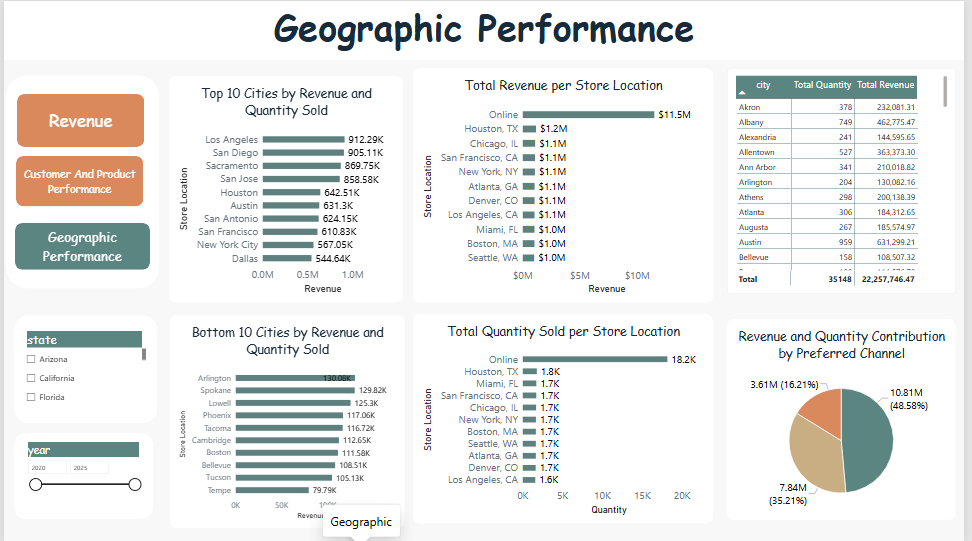

The page's visual inventory and layout, read from the dashboard file:
{"tool":"powerbi","page":{"name":"Geographic","canvas":[1920,1080],"ordinal":2},"visuals":[{"type":"textbox","box":[0,0,1920,118.4],"z":0},{"type":"shape","box":[4.3,148.8,306.1,427.3],"z":0,"group":"g3"},{"type":"shape","box":[19.1,627.2,287,216.9],"z":0,"group":"g1"},{"type":"shape","box":[19.1,863.1,278.5,172.2],"z":0,"group":"g2"},{"type":"barChart","title":"Total Quantity Sold per Store Location","fields":{"Category":["Cleaned_retail_data.store_location"],"Y":["Sum(Cleaned_retail_data.quantity)"]},"box":[818.5,625,599.5,418.8],"z":1000},{"type":"tableEx","title":"Revenue by Year and Quater ","fields":{"Values":["Cleaned_retail_data.city","Cleaned_retail_data.Total Quantity","Cleaned_retail_data.Total Revenue"]},"box":[1446,134,458,452],"z":2000},{"type":"slicer","title":"Total Revenue","fields":{"Values":["Cleaned_retail_data.state"]},"box":[36.8,659.2,246.3,150.9],"z":2000,"group":"g1"},{"type":"slicer","title":"Total Revenue","fields":{"Values":["Cleaned_retail_data.year"]},"box":[38.2,881,238.1,140.4],"z":2000,"group":"g2"},{"type":"group","id":"g1","title":"Group 3","box":[19.1,627.2,287,216.9],"z":3000},{"type":"group","id":"g2","title":"Group 3","box":[19.1,863.1,278.5,172.2],"z":4000},{"type":"group","id":"g3","title":"Group 3","box":[4.3,148.8,306.1,427.3],"z":4001,"group":"g4"},{"type":"barChart","title":"Total Revenue per Store Location","fields":{"Category":["Cleaned_retail_data.store_location"],"Y":["Sum(Cleaned_retail_data.revenue)"]},"box":[818.5,133.9,599.5,469.8],"z":5000},{"type":"pieChart","title":"Revenue and Quantity Contribution by Preferred Channel","fields":{"Category":["Cleaned_retail_data.preferred_channel"],"Y":["Cleaned_retail_data.Total Revenue"]},"box":[1445.7,635.7,457.1,401.8],"z":6000},{"type":"barChart","title":"Top 10 Cities by Revenue and Quantity Sold","fields":{"Category":["Cleaned_retail_data.city"],"Y":["Cleaned_retail_data.Total Revenue"]},"box":[330,134,470,470],"z":7000},{"type":"barChart","title":"Bottom 10 Cities by Revenue and Quantity Sold","fields":{"Category":["Cleaned_retail_data.city"],"Y":["Cleaned_retail_data.Total Revenue"]},"box":[332.6,627.4,468.7,425.8],"z":8000},{"type":"group","id":"g4","title":"Group 2","box":[4.3,148.8,306.1,427.3],"z":9000},{"type":"actionButton","box":[25.5,185.5,254.5,105.8],"z":10000},{"type":"actionButton","box":[23.4,310.4,254.5,100.8],"z":11000},{"type":"actionButton","box":[21.3,444.3,270,93.5],"z":12000}]}

Visuals, with their boxes in screenshot pixels (x1, y1, x2, y2), scaled from the page's 1920x1080 canvas onto the 972x541 screenshot:
textbox: [0, 0, 971, 59]
shape: [2, 75, 157, 289]
shape: [10, 314, 155, 423]
shape: [10, 432, 151, 519]
"Total Quantity Sold per Store Location" barChart: [414, 313, 718, 523]
"Revenue by Year and Quater " tableEx: [732, 67, 964, 294]
"Total Revenue" slicer: [19, 330, 143, 406]
"Total Revenue" slicer: [19, 441, 140, 512]
"Group 3" group: [10, 314, 155, 423]
"Group 3" group: [10, 432, 151, 519]
"Group 3" group: [2, 75, 157, 289]
"Total Revenue per Store Location" barChart: [414, 67, 718, 302]
"Revenue and Quantity Contribution by Preferred Channel" pieChart: [732, 318, 963, 520]
"Top 10 Cities by Revenue and Quantity Sold" barChart: [167, 67, 405, 303]
"Bottom 10 Cities by Revenue and Quantity Sold" barChart: [168, 314, 406, 528]
"Group 2" group: [2, 75, 157, 289]
actionButton: [13, 93, 142, 146]
actionButton: [12, 155, 141, 206]
actionButton: [11, 223, 147, 269]
